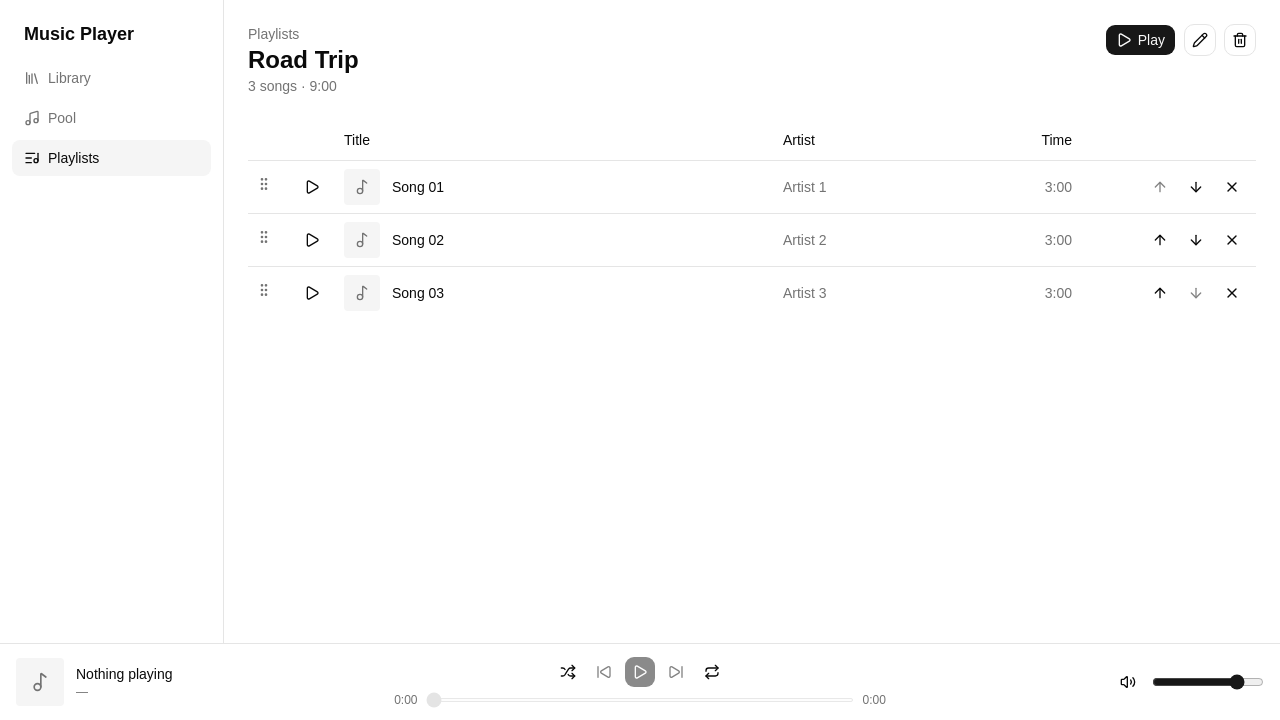
Scenario: Playlist detail › F-PY-06 removing a song leaves it in the collection
The width and height of the screenshot is (1280, 720).
Expected: the text "Song 02" is shown, [392,230,444,250]
Step 1. Click the button named "Remove Song 02 from playlist" → coordinates (1232, 240), box [1216,224,1248,256]
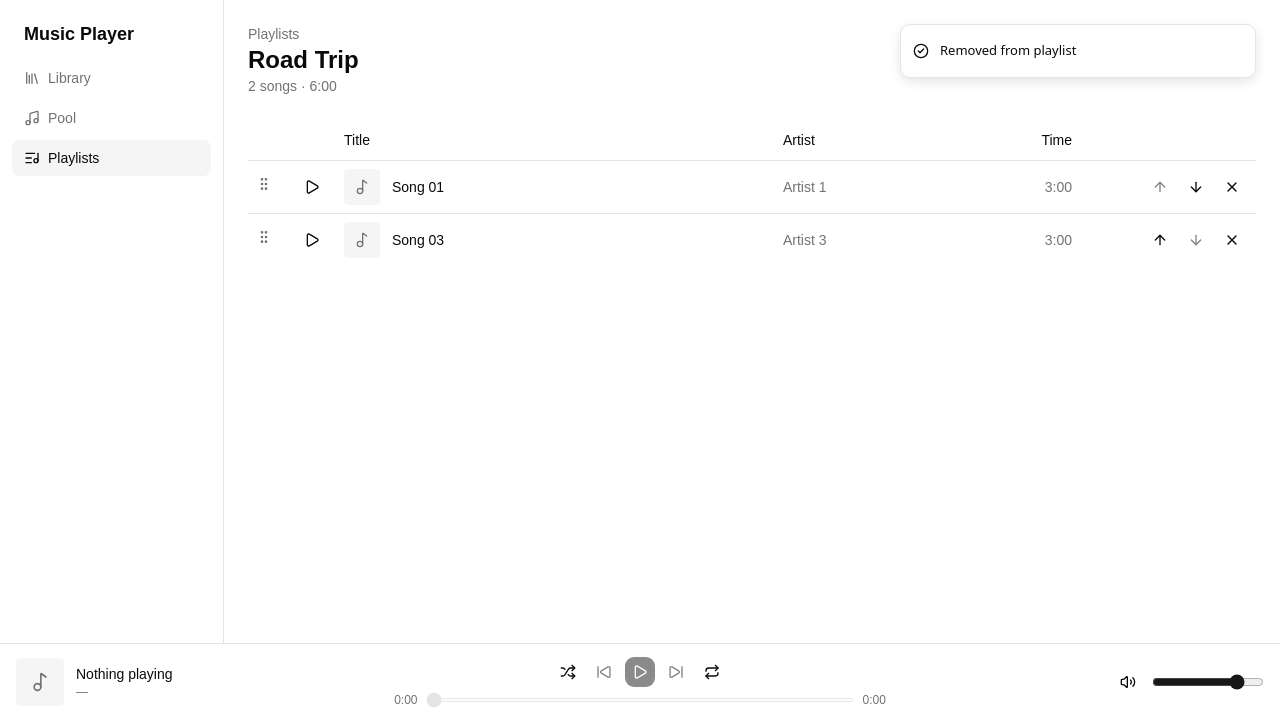
Now the text "Song 02" is gone
